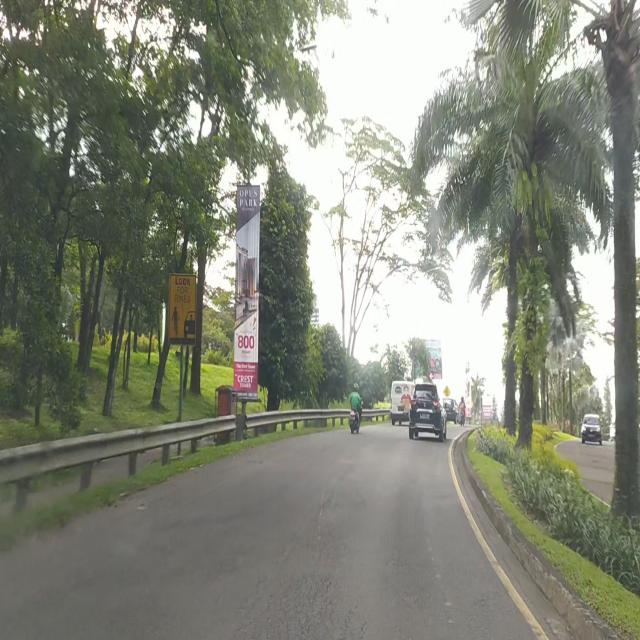Drain Hole: (256, 566, 363, 640)
